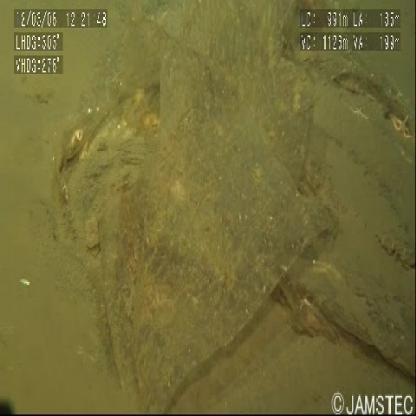Rác: (50, 7, 416, 392)
